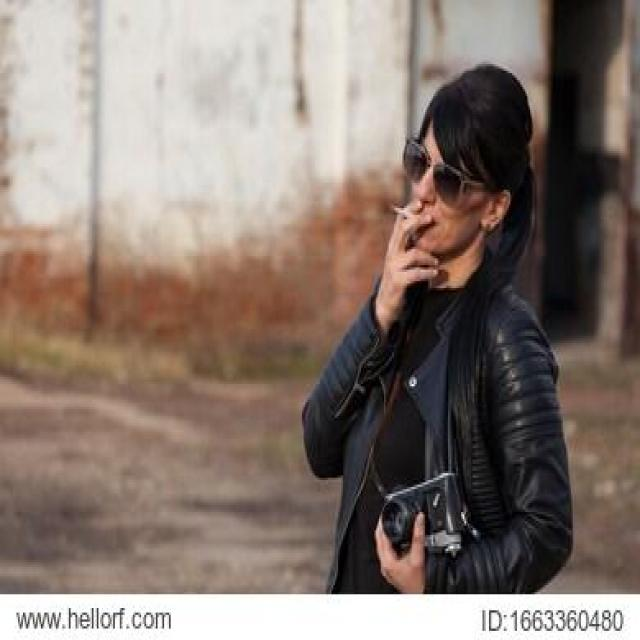Сигарета: (391, 202, 421, 225)
Тело: (305, 65, 571, 596)
